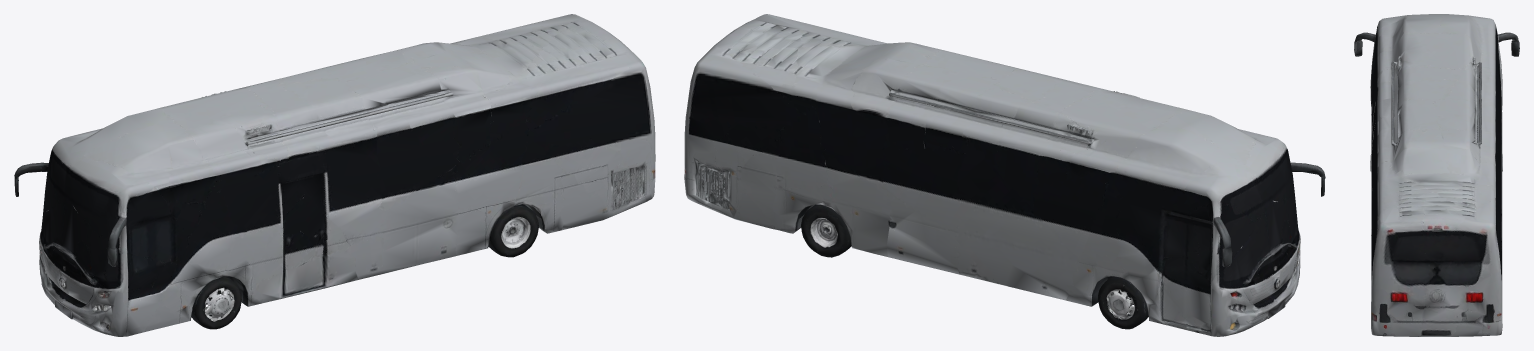
Rendered from bus.glb.
The picture shows the model from 3 angles, left to right: view 1: azimuth 30°, elevation 25°; view 2: azimuth 150°, elevation 25°; view 3: azimuth 270°, elevation 25°; orthographic projection. The views are drawn at different scales.
Visible parts, largest first — view 1: mesh_node; view 2: mesh_node; view 3: mesh_node.
Boxes of the visible parts, left/top/right/bottom form: mesh_node: left=14, top=14, right=655, bottom=336; mesh_node: left=684, top=14, right=1325, bottom=336; mesh_node: left=1354, top=14, right=1519, bottom=336.
Size of the model in its own units: 1.9 by 0.5842 by 0.592.
Materials: 1 (1 with a texture image).
